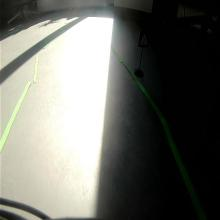crosswalk: (137, 30, 151, 48)
